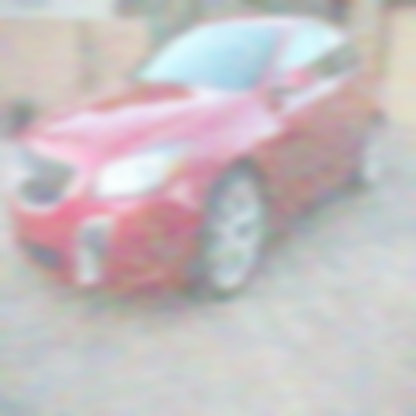Vehicle: (8, 18, 386, 302)
